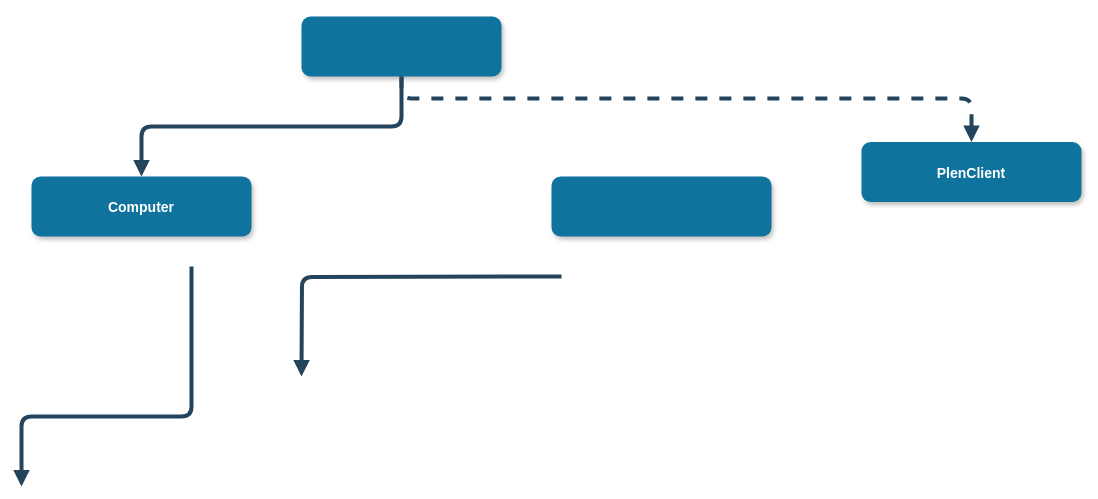
The diagram is 1098 pixels wide and 499 high, and some of its shapes have lost their labels. Here are the shapes that lost their labels. From the top down, the centre of each, then its label:
At (x=402, y=47): "Plen".
At (x=662, y=207): "Econergy".
